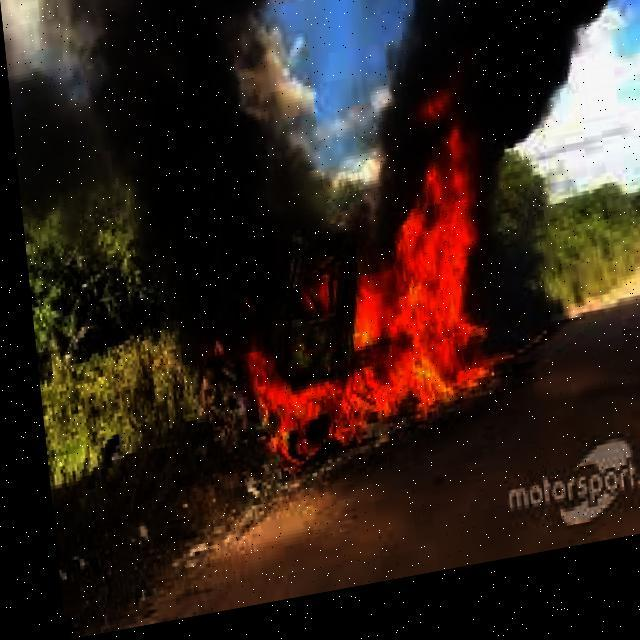Fire: (338, 106, 513, 448), (192, 288, 362, 486)
